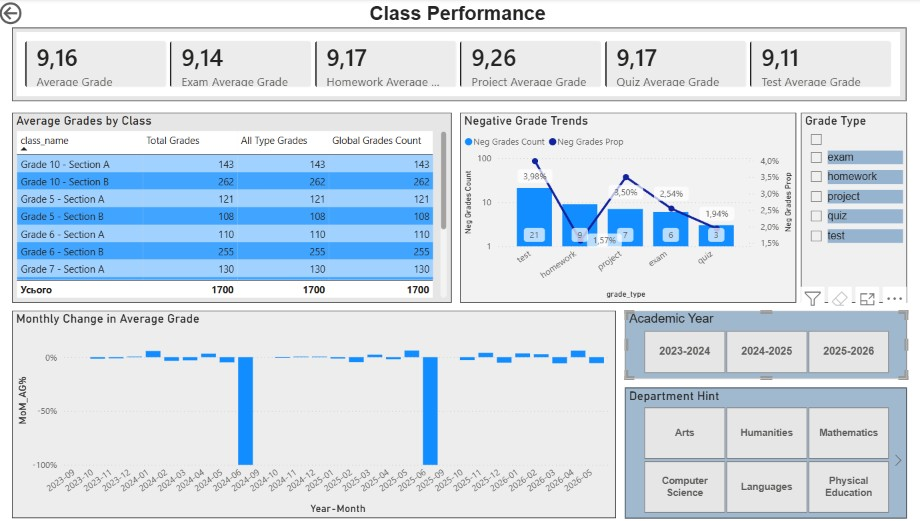

Layout of this report page (visuals, bound fields, positions):
{"tool":"powerbi","page":{"name":"Class Performance","canvas":[1280,720],"ordinal":1},"visuals":[{"type":"actionButton","box":[0,0,100,40],"z":0},{"type":"textbox","box":[149.9,0,967.8,47.6],"z":1000},{"type":"cardVisual","title":"Average Grade","fields":{"Data":["_Measures.Average Grade","_Measures.Exam Average Grade","_Measures.Homework Average Grade","_Measures.Project Average Grade","_Measures.Quiz Average Grade","_Measures.Test Average Grade"]},"box":[22.4,40.4,1227.2,100.5],"z":2000},{"type":"tableEx","title":"Average Grades by Class","fields":{"Values":["classes.class_name","_Measures.Total Grades","_Measures.All Type Grades","_Measures.Global Grades Count"]},"box":[22.4,157.1,603.3,260.3],"z":3000},{"type":"lineClusteredColumnComboChart","title":"Negative Grade Trends","fields":{"Category":["grades.grade_type"],"Y":["_Measures.Neg Grades Count"],"Y2":["_Measures.Neg Grades Prop"]},"box":[636.5,157.1,461.4,260.3],"z":4000},{"type":"clusteredColumnChart","title":"Monthly Change in Average Grade","fields":{"Y":["_Measures.MoM_AG%"],"Category":["calendar.Year-Month"]},"box":[22.4,428.2,828.6,284.6],"z":5000},{"type":"slicer","title":"Grade Type","fields":{"Values":["grades.grade_type"]},"box":[1104.2,157.1,145.4,260.3],"z":6000},{"type":"slicer","title":"Academic Year","fields":{"Values":["periods.academic_year"]},"box":[862.7,428.2,386.9,93.4],"z":7000},{"type":"slicer","title":"Department Hint","fields":{"Values":["subjects.department_hint"]},"box":[862.7,533.3,386.9,179.6],"z":8000}]}

Visuals, with their boxes in screenshot pixels (x1, y1, x2, y2), scaled from the page's 1280x720 canvas onto the 920x521 screenshot:
actionButton: rect(0, 0, 72, 29)
textbox: rect(108, 0, 803, 34)
"Average Grade" cardVisual: rect(16, 29, 898, 102)
"Average Grades by Class" tableEx: rect(16, 114, 450, 302)
"Negative Grade Trends" lineClusteredColumnComboChart: rect(457, 114, 789, 302)
"Monthly Change in Average Grade" clusteredColumnChart: rect(16, 310, 612, 516)
"Grade Type" slicer: rect(794, 114, 898, 302)
"Academic Year" slicer: rect(620, 310, 898, 377)
"Department Hint" slicer: rect(620, 386, 898, 516)
